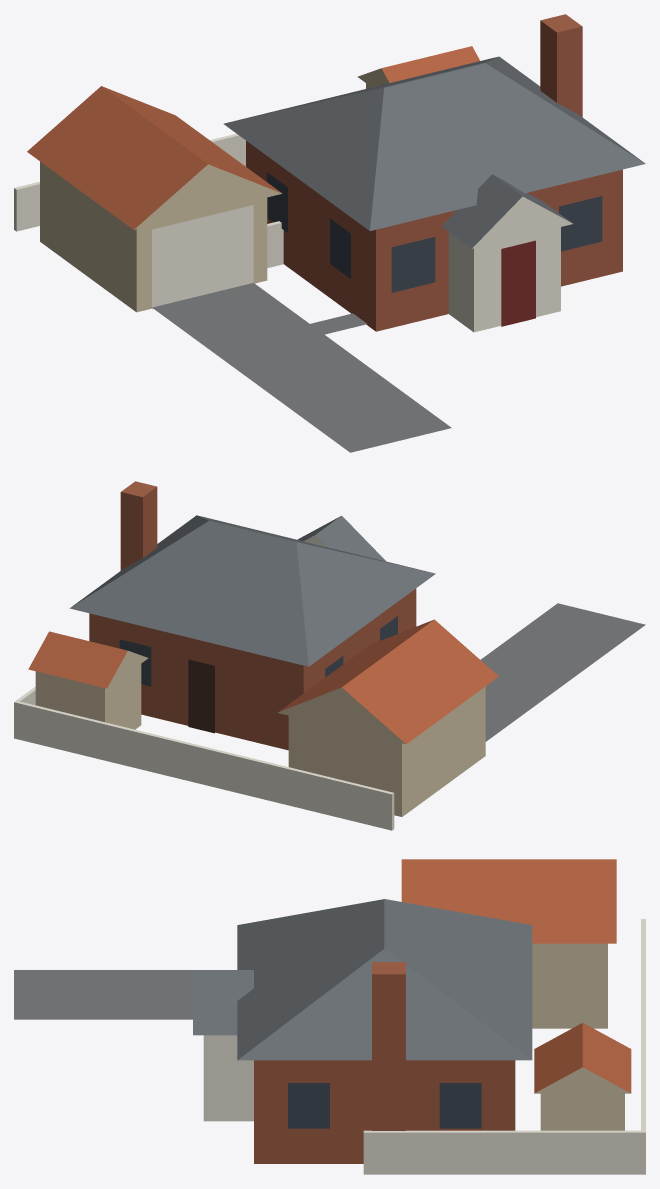
Rendered from house_b_far.glb.
3 renders of one model, top to bottom at view 1: azimuth 30°, elevation 25°; view 2: azimuth 150°, elevation 25°; view 3: azimuth 270°, elevation 25°, orthographic. The views are drawn at different scales.
Visible parts, largest first — view 1: house_b_far; view 2: house_b_far; view 3: house_b_far.
Part boxes in pixels (left/top/right/bottom): house_b_far: left=14, top=14, right=645, bottom=452; house_b_far: left=14, top=481, right=645, bottom=830; house_b_far: left=14, top=859, right=645, bottom=1174.
Size of the model in its own units: 12.05 by 5.2 by 15.
